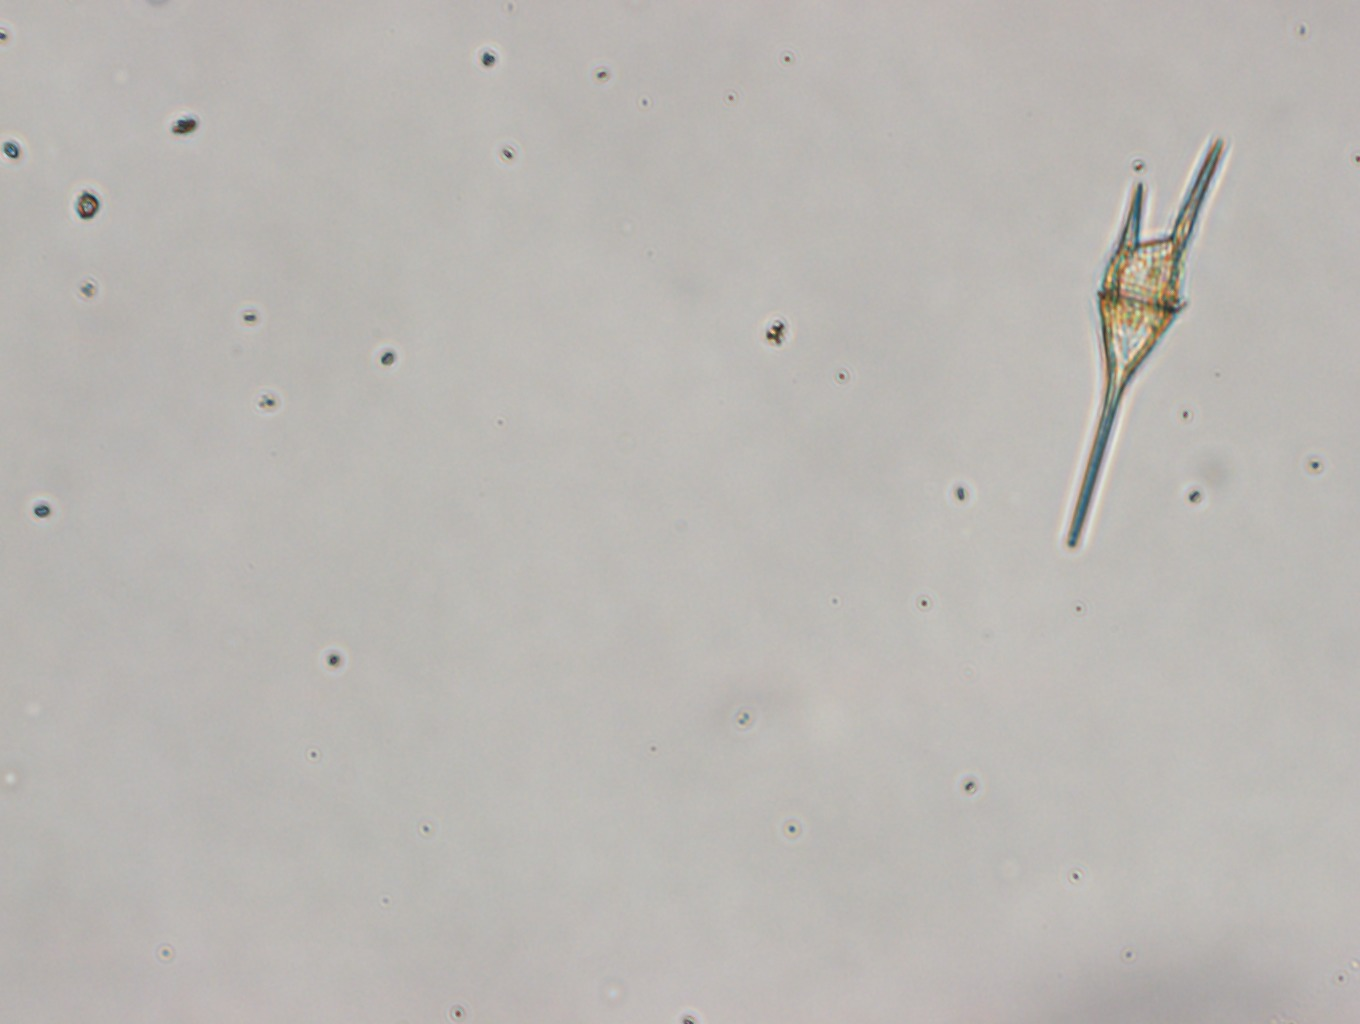ceratium furca: (1063, 130, 1229, 551)
